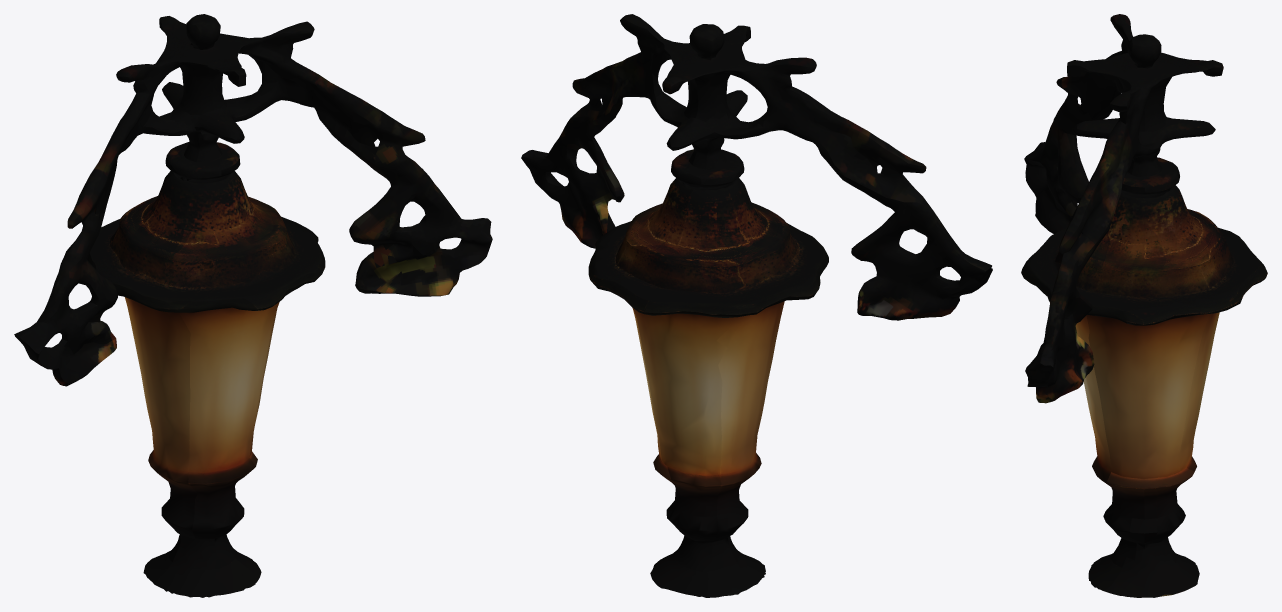
File: street-lamp.glb
3 views of the same model, side by side, from view 1: azimuth 30°, elevation 25°; view 2: azimuth 150°, elevation 25°; view 3: azimuth 270°, elevation 25° (orthographic). The views are drawn at different scales.
Parts seen in each view (by area): view 1: geometry_0; view 2: geometry_0; view 3: geometry_0.
Boxes of the visible parts, left/top/right/bottom form: geometry_0: left=14, top=14, right=492, bottom=597; geometry_0: left=521, top=14, right=992, bottom=597; geometry_0: left=1021, top=14, right=1267, bottom=597.
Size of the model in its own units: 0.8944 by 1 by 0.4167.
Materials: 1 (1 with a texture image).
